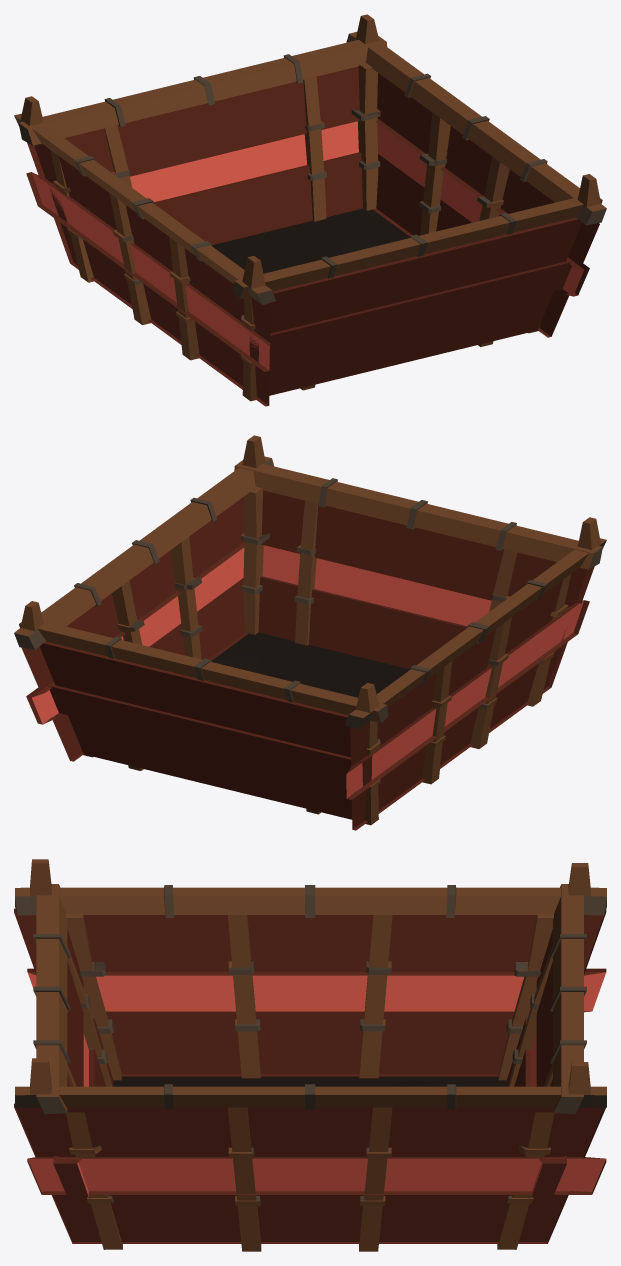
The model's file is Karczma.fbx.
3 views of the same model, one above another, from view 1: azimuth 30°, elevation 25°; view 2: azimuth 150°, elevation 25°; view 3: azimuth 270°, elevation 25° (orthographic). The views are drawn at different scales.
Visible parts, largest first — view 1: Cube.020; view 2: Cube.020; view 3: Cube.020.
Part boxes in pixels (x1=…): Cube.020: x1=14, y1=14, x2=606, y2=406; Cube.020: x1=14, y1=435, x2=606, y2=830; Cube.020: x1=14, y1=859, x2=606, y2=1251.
Bounding box in the file's own units: 5813 × 2583 × 6841.
